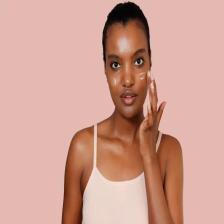Oily: (107, 27, 149, 115)
